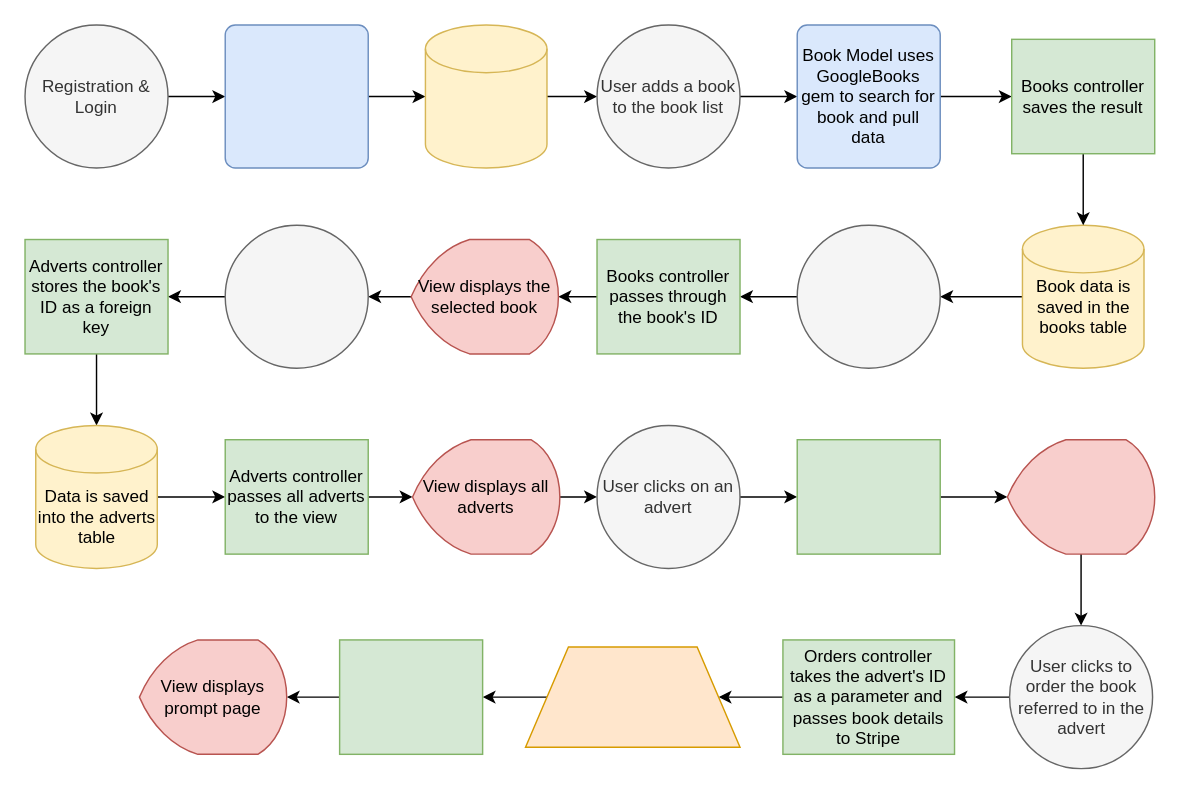
Some shapes in this 1180 by 794 pixel diagram are drawn without their labels. The box of each missing label's shape, as (x1, y1, x2, y2) in pixels:
Adverts controller passes through the advert's ID: (796, 438, 940, 554)
Orders controller routes Stripe back to a prompt page: (338, 638, 483, 754)
Stripe processes payment: (524, 646, 740, 747)
User clicks on book just added: (796, 224, 940, 368)
User clicks to sell the book: (224, 224, 368, 368)
User data is saved in the users table: (424, 24, 547, 168)
User Model determines how data is saved: (224, 24, 368, 168)
View displays the selected advert: (1006, 438, 1155, 554)
